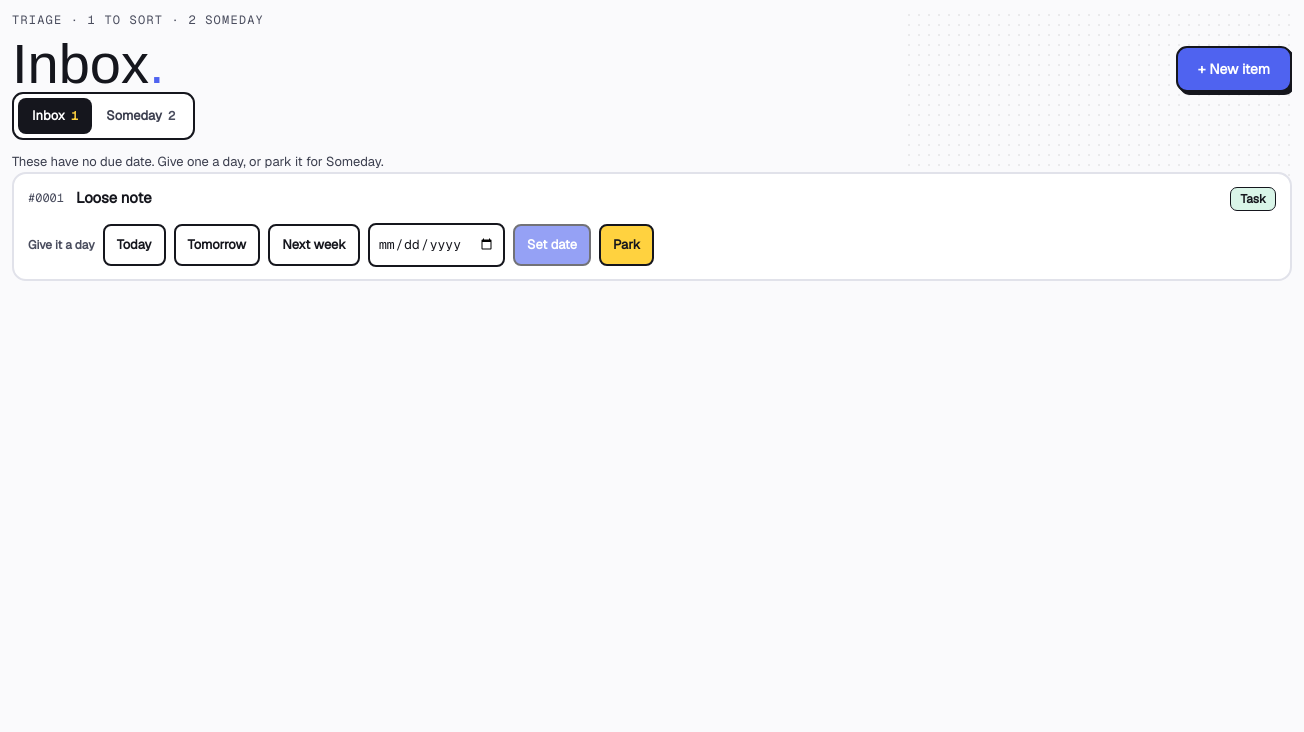
Test: Inbox triage › parks an inbox item with someday true and reloads both lists
Click the button with aria-label "Park Loose note for someday" at (627,244), box [599,224,654,266]
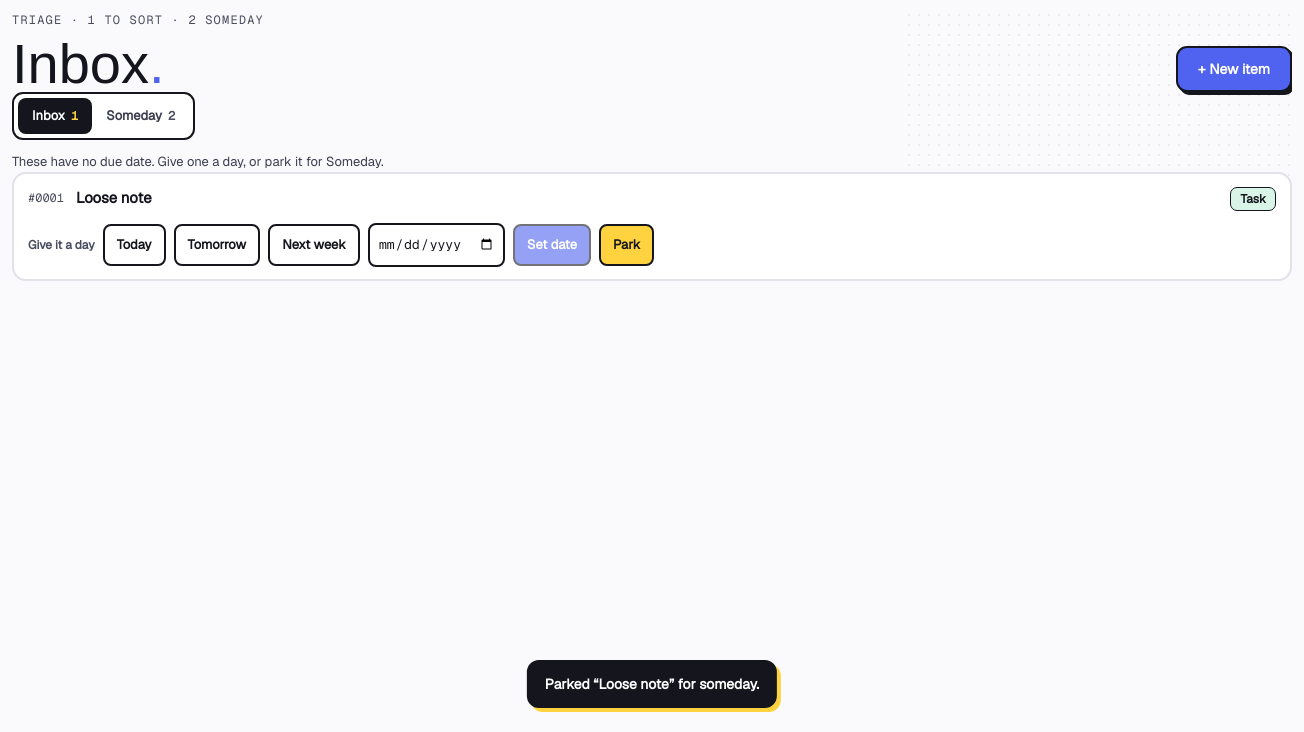
Check: the text "Parked “Loose note” for someday." is shown, box [527,660,777,708]
